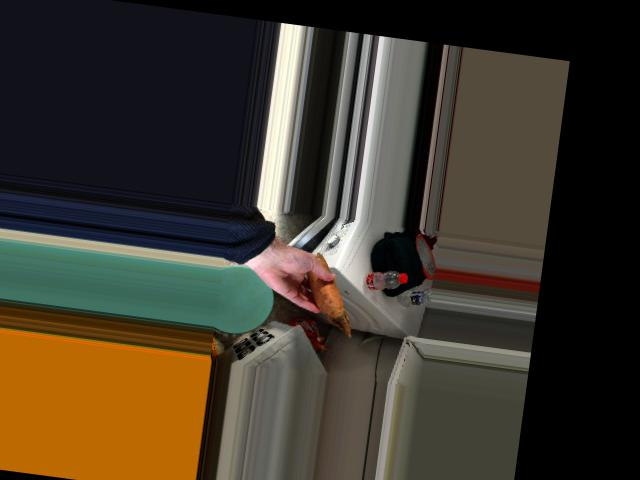sweet_potato: (303, 264, 347, 316)
